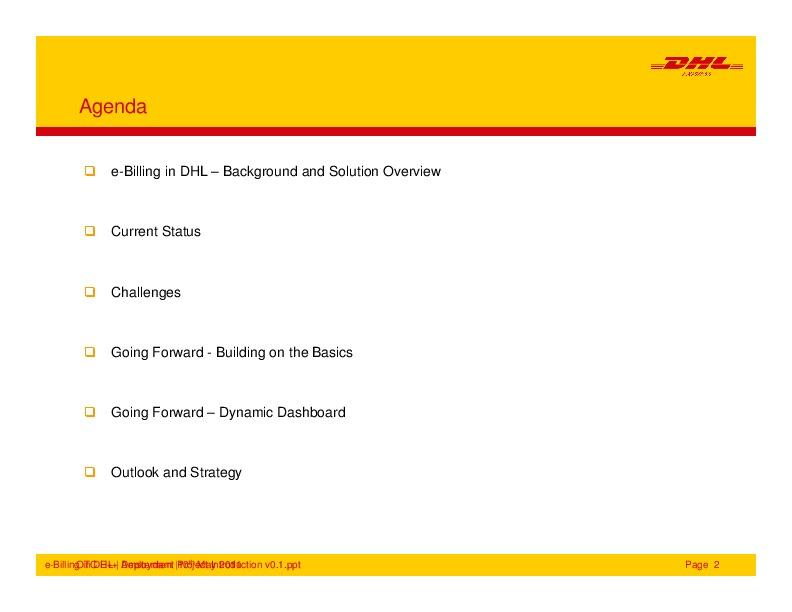paragraph: (75, 148, 500, 503)
subtitle: (37, 547, 327, 578)
title: (76, 85, 163, 123)
